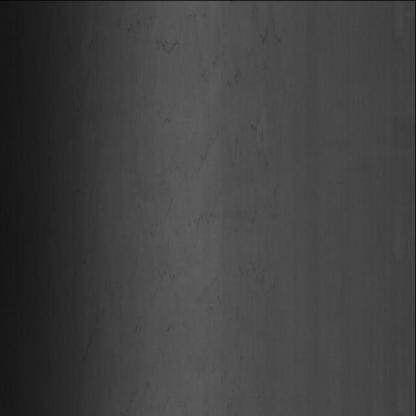silk_spot: (172, 95, 240, 331)
